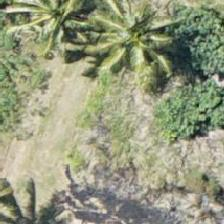coconut_tree: (84, 0, 174, 76), (0, 0, 79, 49)
